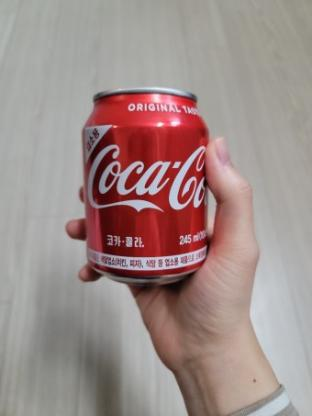Can: (80, 88, 212, 280)
